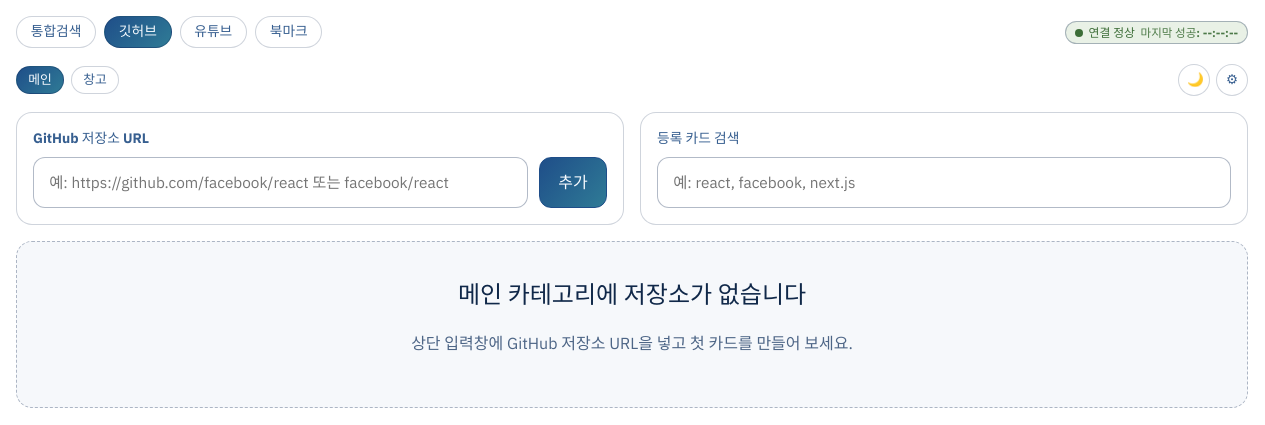
Test: AppShell › switches to bookmark board and hides github/search UI
Click the tab "북마크" at (289, 32), box [255, 16, 322, 48]
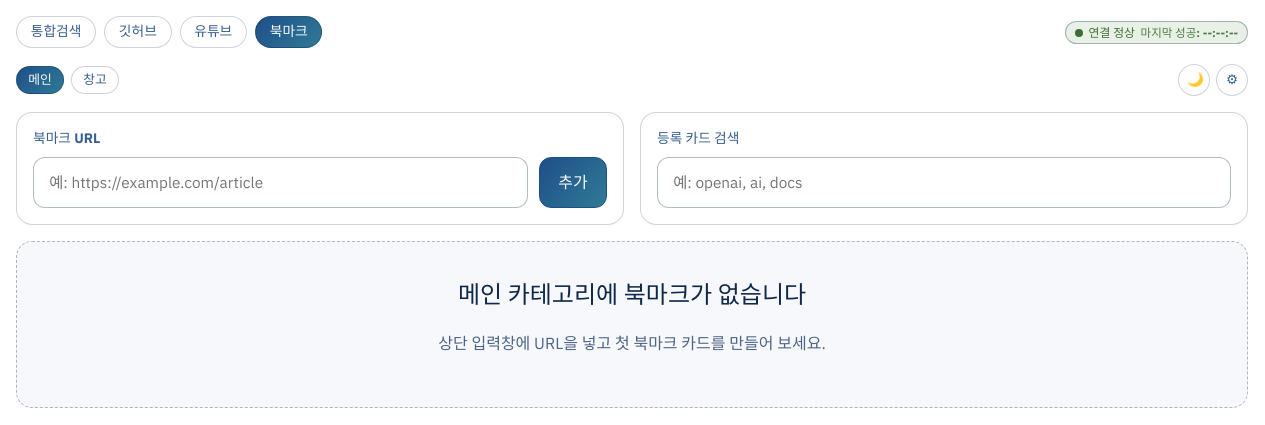
Expected: the field labelled "북마크 URL" is shown, [33, 157, 528, 208]
Expected: the field labelled "등록 카드 검색" is shown, [657, 157, 1231, 208]
Expected: the label labelled "GitHub 저장소 URL" is gone
